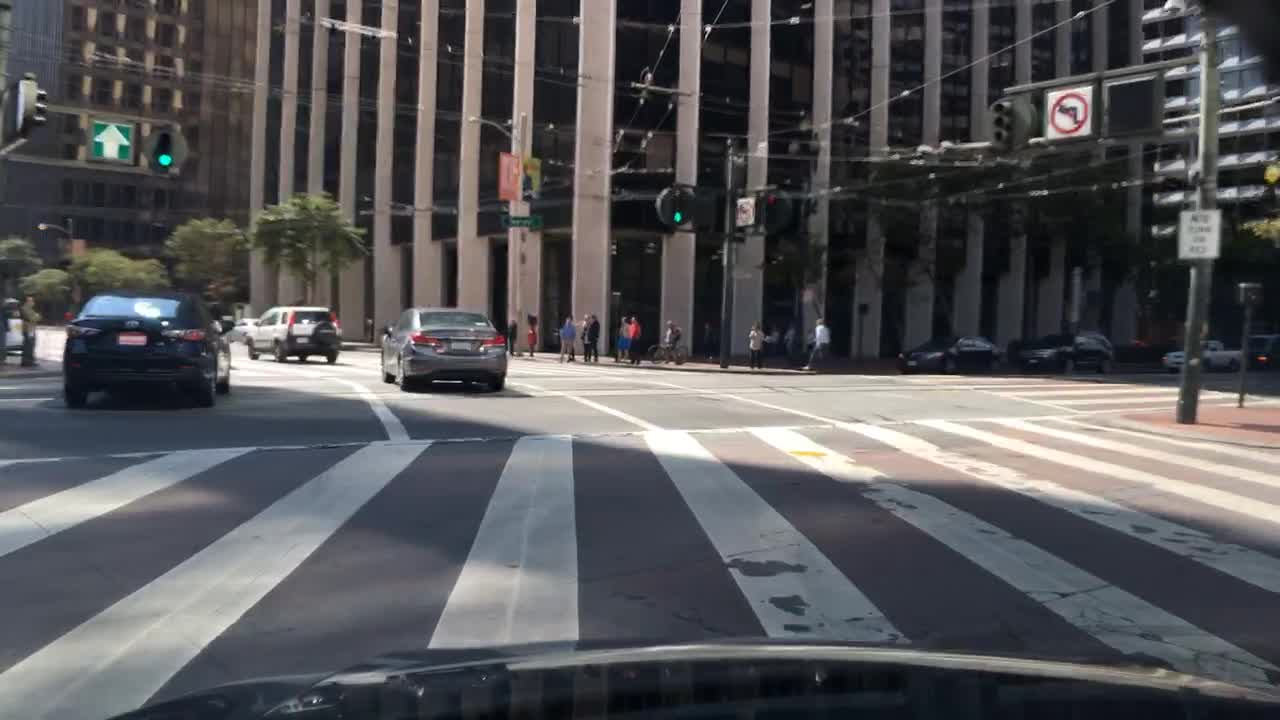bike: (648, 336, 688, 365)
car: (58, 290, 236, 409), (378, 306, 508, 390), (244, 304, 343, 363), (1016, 328, 1118, 375), (897, 333, 1002, 378), (2, 294, 23, 362), (1243, 332, 1279, 369), (222, 315, 257, 342)
person: (801, 311, 833, 373), (21, 290, 43, 368), (742, 317, 763, 369), (557, 316, 577, 364), (585, 307, 603, 360), (626, 315, 646, 361), (1, 289, 11, 365), (779, 319, 794, 368), (577, 311, 590, 357), (701, 320, 715, 360), (613, 316, 626, 359), (503, 316, 517, 355), (526, 311, 537, 355)
rider: (660, 316, 683, 360)
traffic light: (984, 93, 1032, 149), (12, 76, 51, 135), (655, 187, 694, 229), (760, 187, 788, 239), (154, 125, 174, 175)
traffic sign: (1046, 86, 1094, 140), (1173, 208, 1220, 260), (84, 117, 133, 163), (733, 198, 754, 225), (504, 214, 541, 229)
truck: (1159, 337, 1245, 369)
